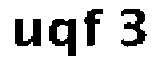3: (118, 2, 150, 51)
f: (81, 6, 105, 48)
q: (48, 17, 78, 60)
u: (12, 13, 42, 50)
